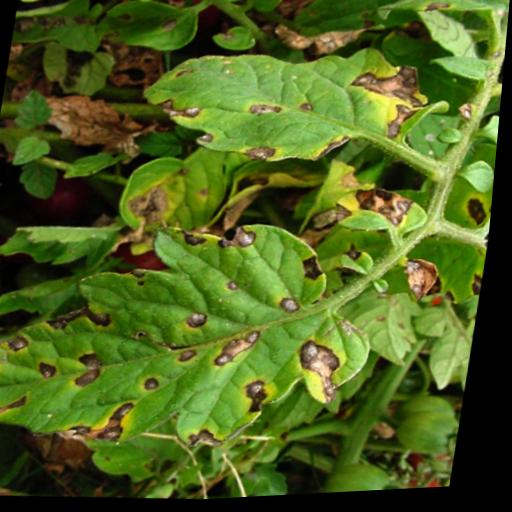Bacterial Spot: (0, 205, 396, 473), (134, 34, 438, 182), (114, 131, 259, 257), (93, 0, 204, 58), (334, 184, 438, 243)
